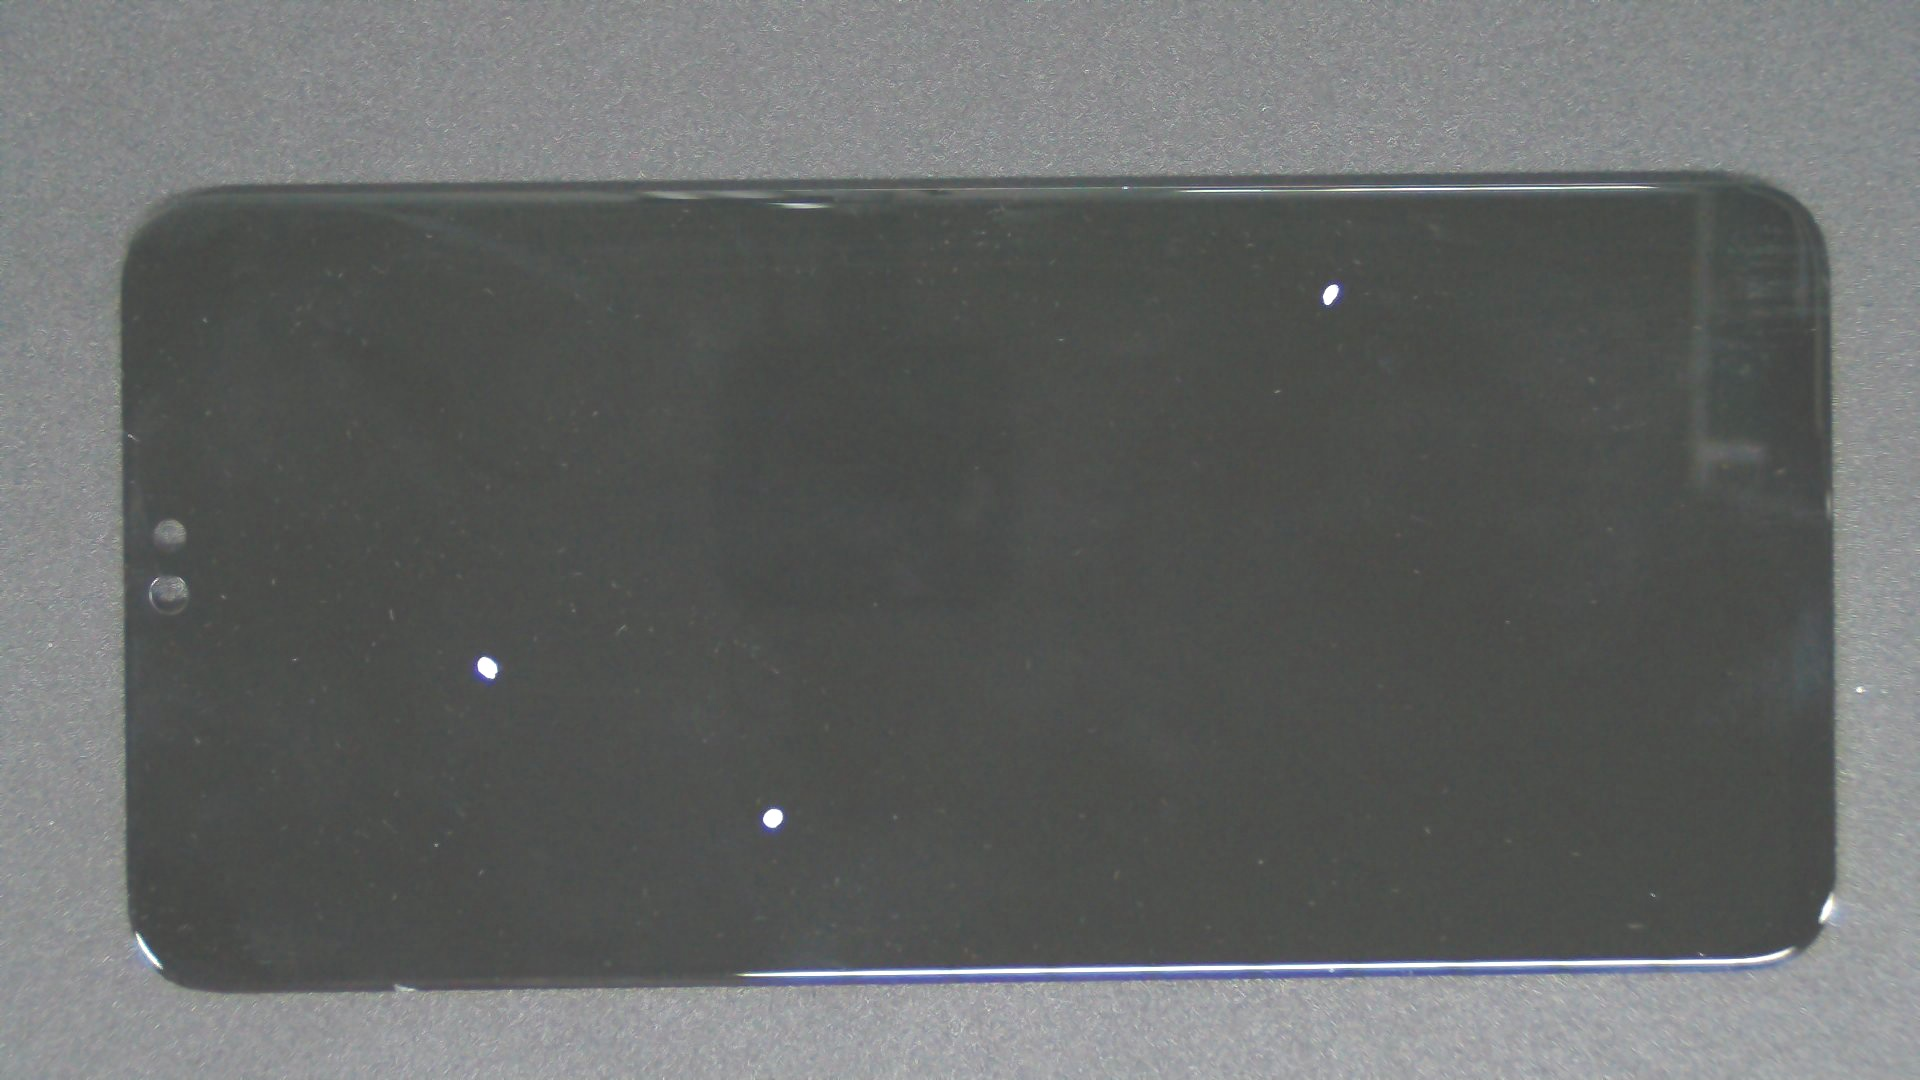oil: (385, 404, 1153, 1080), (666, 141, 1920, 425), (243, 327, 725, 981)
